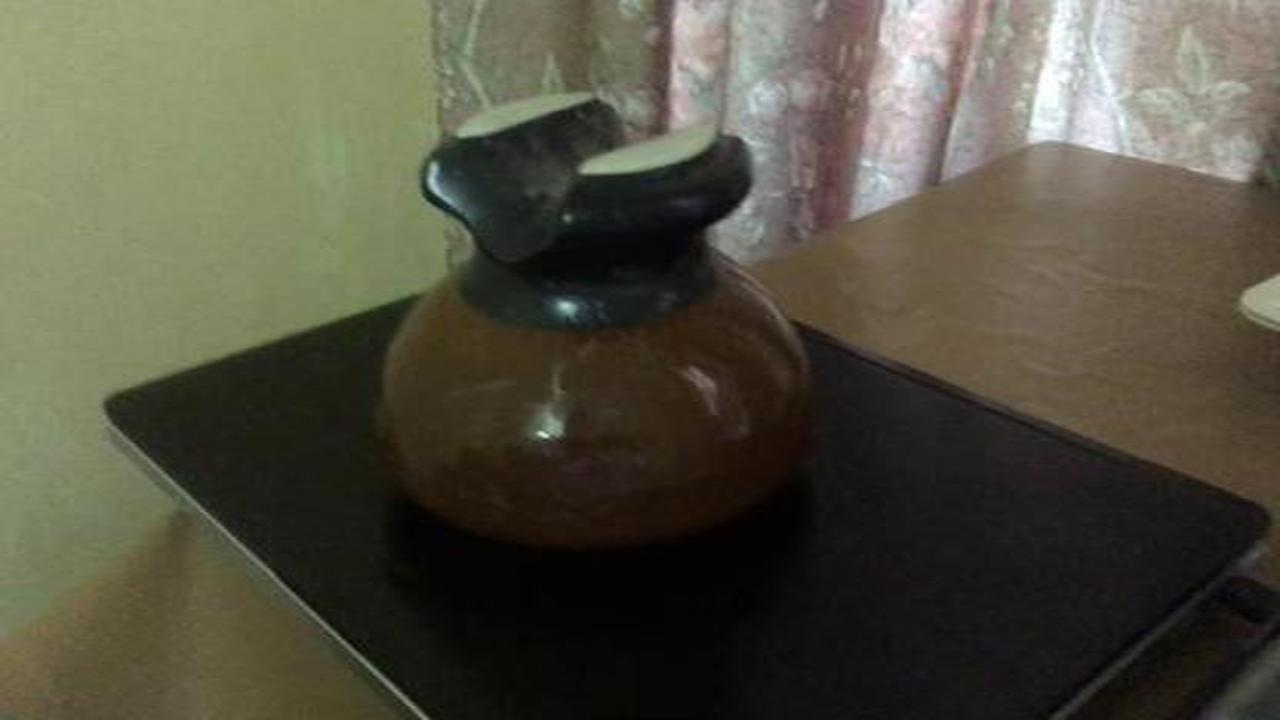insulator_pin: (360, 73, 850, 565)
